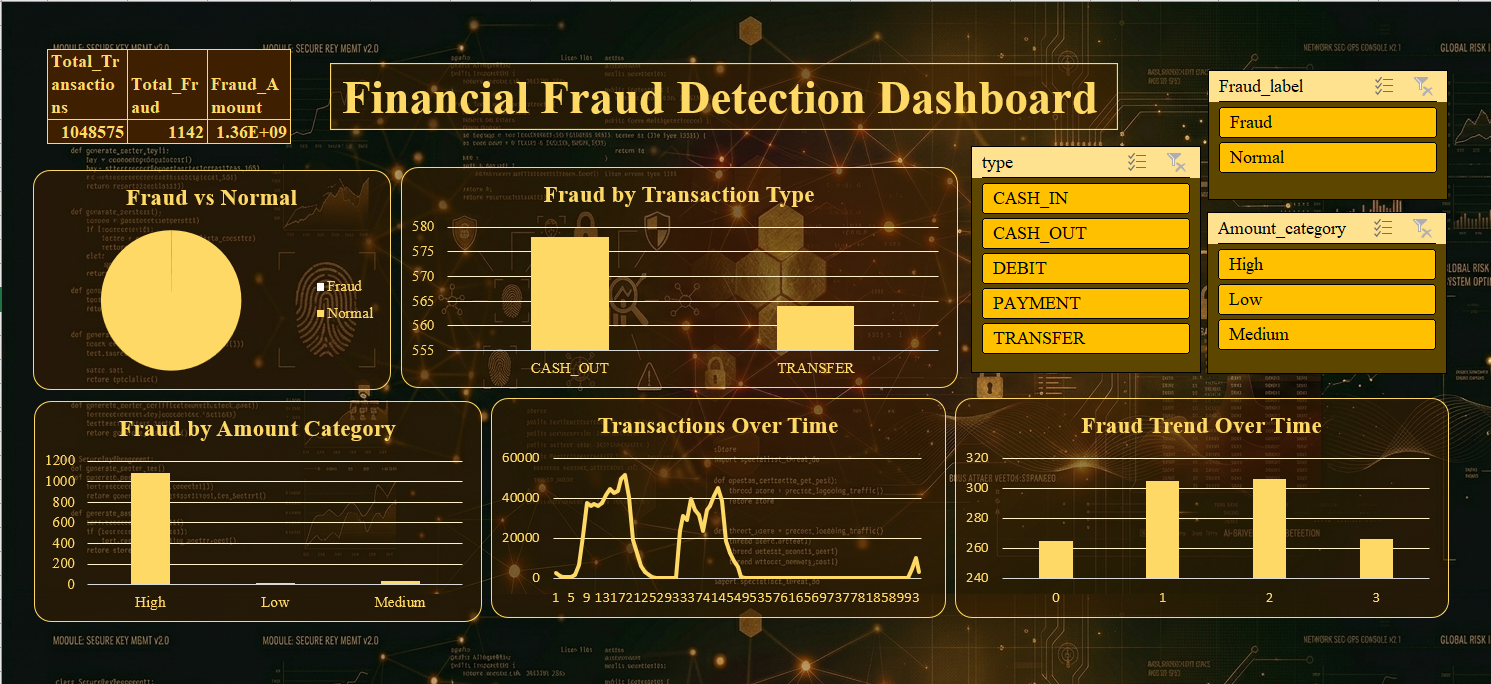

Layout of this report page (visuals, bound fields, positions):
{"tool":"tableau","page":{"name":"Dashboard 1","canvas":[1000,1000],"units":"permille","ordinal":0},"visuals":[{"type":"image","param":"C:/Users/anjan/Downloads/Gemini_Generated_Image_88gt9m88gt9m88gt.png","box":[6.8,10.6,986.4,978.9]},{"type":"title","box":[25.8,39.9,924.2,95.1]},{"type":"worksheet","title":"Sheet 7","mark":"Automatic","box":[684.9,136.2,130.3,93.9]},{"type":"worksheet","title":"Sheet 10","mark":"Automatic","box":[517.4,137.3,157.6,90.4]},{"type":"worksheet","title":"Sheet 8","mark":"Automatic","box":[64.4,138.5,185.6,91.5]},{"type":"worksheet","title":"Sheet 9","mark":"Automatic","box":[259.9,140.8,247,89.2]},{"type":"legend","title":"Sheet 3","param":"[federated.1n4d1n10jidqv315h5fn50ygllpl].[sum:isFraud:qk]","box":[823.5,140.8,107.6,86.9]},{"type":"worksheet","title":"Sheet 4","mark":"Automatic","rows":["Calculation_1897537536856067"],"cols":["isFraud"],"box":[395.4,243,360.6,179.6]},{"type":"worksheet","title":"Sheet 1","mark":"Automatic","rows":["Calculation_1897537536434176"],"cols":["Calculation_1897537536434176"],"box":[60.6,250,326.5,169]},{"type":"legend","title":"Sheet 5","param":"[federated.1n4d1n10jidqv315h5fn50ygllpl].[none:type:nk]","box":[776.5,254.7,118.2,163.2]},{"type":"worksheet","title":"Sheet 6","mark":"Automatic","rows":["isFraud"],"cols":["Calculation_1897537536774146"],"box":[518.9,431.9,423.5,269.9]},{"type":"worksheet","title":"Sheet 2","mark":"Automatic","rows":["type"],"cols":["isFraud"],"box":[42.4,439,434.9,267.6]},{"type":"worksheet","title":"Sheet 5","mark":"Automatic","rows":["isFraud"],"cols":["Calculation_1897537536651265"],"box":[519.7,708.9,425.8,268.8]},{"type":"worksheet","title":"Sheet 3","mark":"Line","rows":["isFraud"],"cols":["step"],"box":[43.9,712.4,435.6,264.1]}]}

Visuals, with their boxes on the dashboard's canvas, which has no fixed pixel size, in thousandths of its width and height (x1, y1, x2, y2). These are canvas units, not pixel positions in the 1491x684 screenshot, which may show the page scaled, cropped or inside an application window:
image: l=7, t=11, r=993, b=990
title: l=26, t=40, r=950, b=135
"Sheet 7" worksheet: l=685, t=136, r=815, b=230
"Sheet 10" worksheet: l=517, t=137, r=675, b=228
"Sheet 8" worksheet: l=64, t=138, r=250, b=230
"Sheet 9" worksheet: l=260, t=141, r=507, b=230
"Sheet 3" legend: l=824, t=141, r=931, b=228
"Sheet 4" worksheet: l=395, t=243, r=756, b=423
"Sheet 1" worksheet: l=61, t=250, r=387, b=419
"Sheet 5" legend: l=776, t=255, r=895, b=418
"Sheet 6" worksheet: l=519, t=432, r=942, b=702
"Sheet 2" worksheet: l=42, t=439, r=477, b=707
"Sheet 5" worksheet: l=520, t=709, r=946, b=978
"Sheet 3" worksheet (Line marks): l=44, t=712, r=480, b=976
